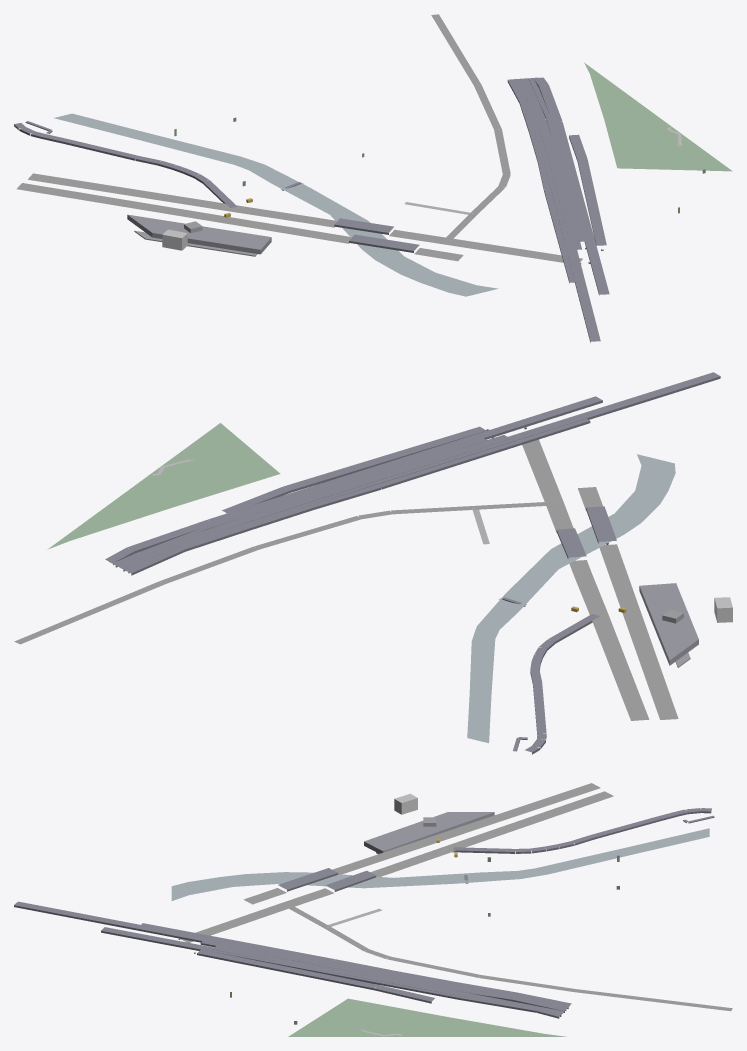
3 views of the same model, one above another, from view 1: azimuth 30°, elevation 25°; view 2: azimuth 150°, elevation 25°; view 3: azimuth 270°, elevation 25° (orthographic). The views are drawn at different scales.
Bounding box in the file's own units: 560 × 25.91 × 668.
